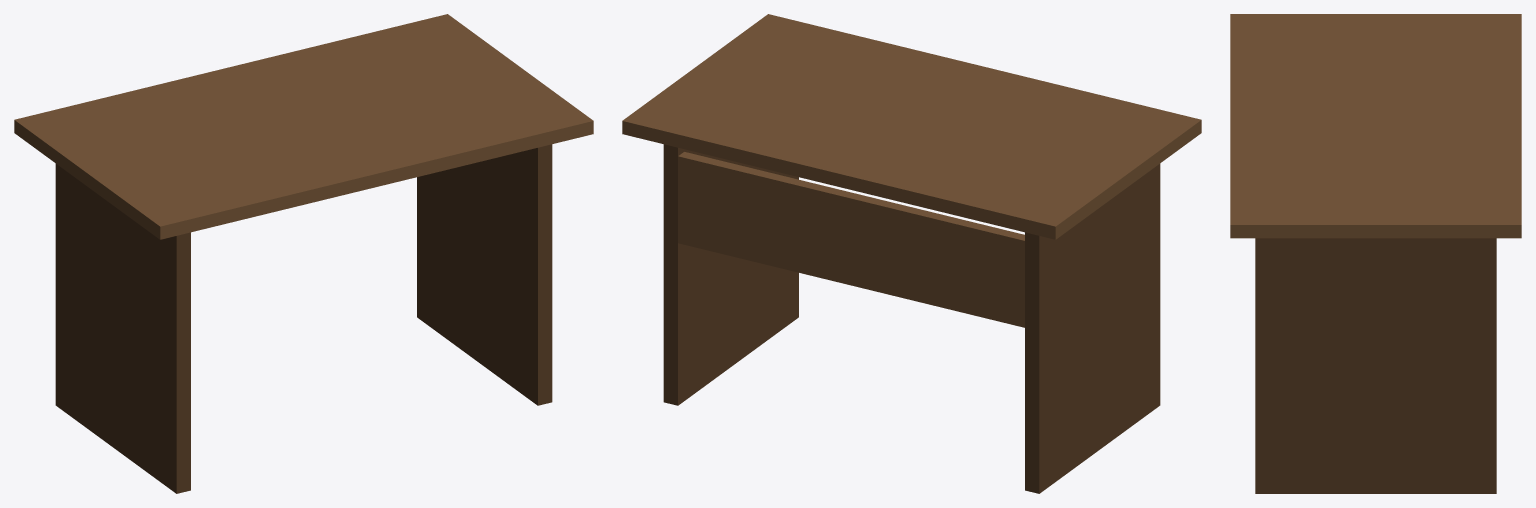
The model's file is prop_desk_chipboard.obj.
3 renders of one model, left to right at view 1: azimuth 30°, elevation 25°; view 2: azimuth 150°, elevation 25°; view 3: azimuth 270°, elevation 25°, orthographic.
Parts seen in each view (by area): view 1: prop_desk_chipboard; view 2: prop_desk_chipboard; view 3: prop_desk_chipboard.
Boxes of the visible parts, <box> form: prop_desk_chipboard: <box>14,14,593,493</box>; prop_desk_chipboard: <box>622,14,1201,493</box>; prop_desk_chipboard: <box>1230,14,1521,493</box>.
Size of the model in its own units: 1.2 by 0.75 by 0.7.
